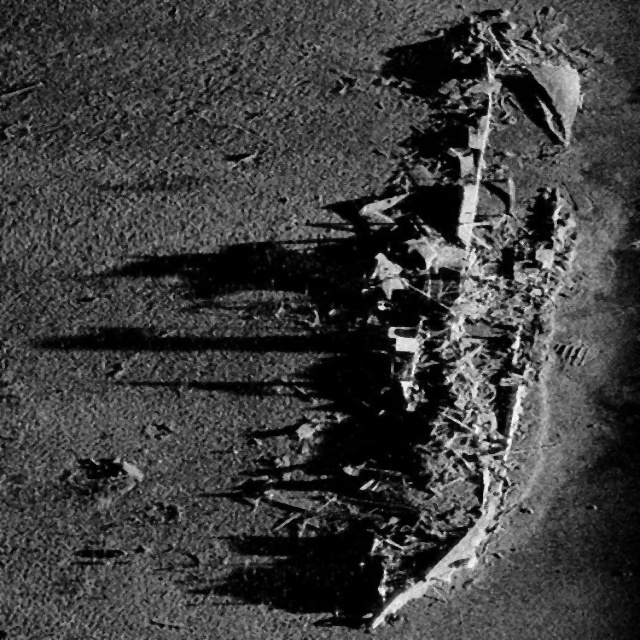Ship: (252, 5, 598, 639)
